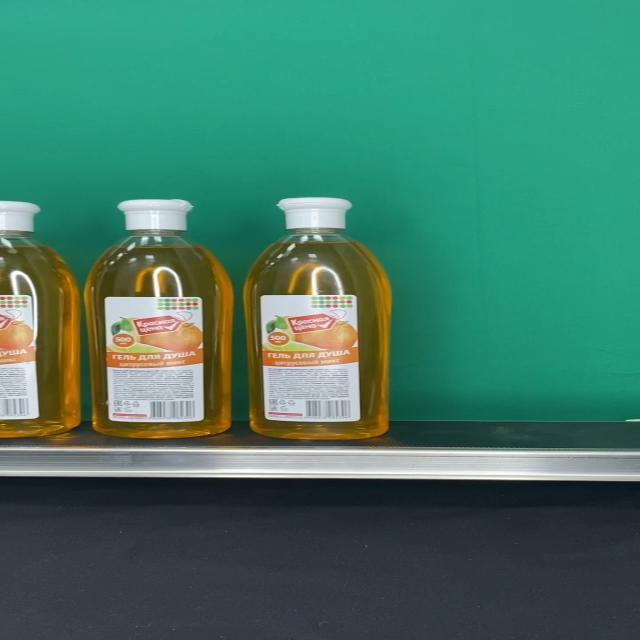Bottle: (243, 196, 391, 440), (84, 199, 234, 439)
Cap: (276, 197, 353, 230), (115, 199, 193, 231)
